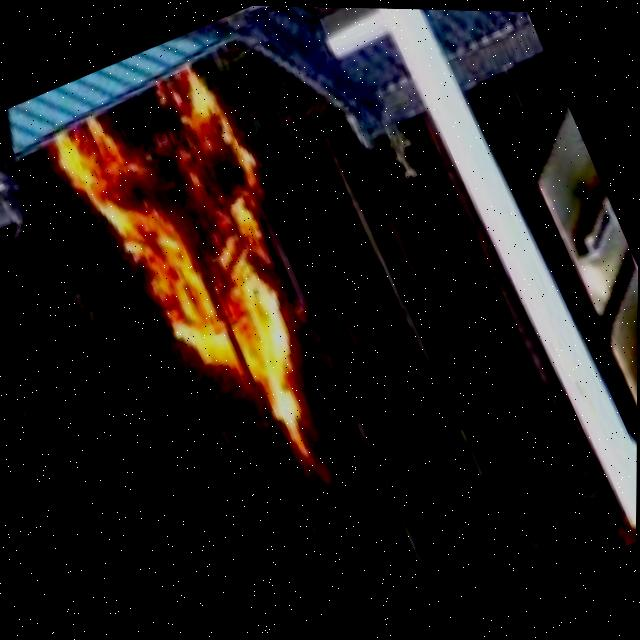Fire: (63, 59, 355, 455)
